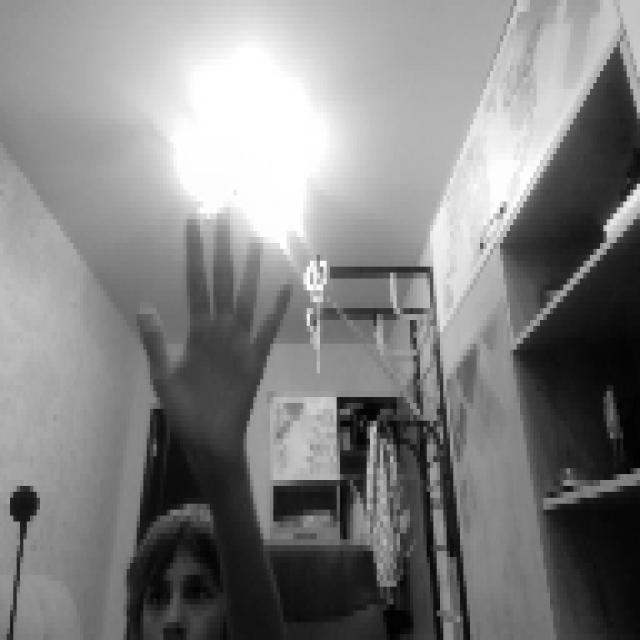hand: (137, 196, 290, 456)
